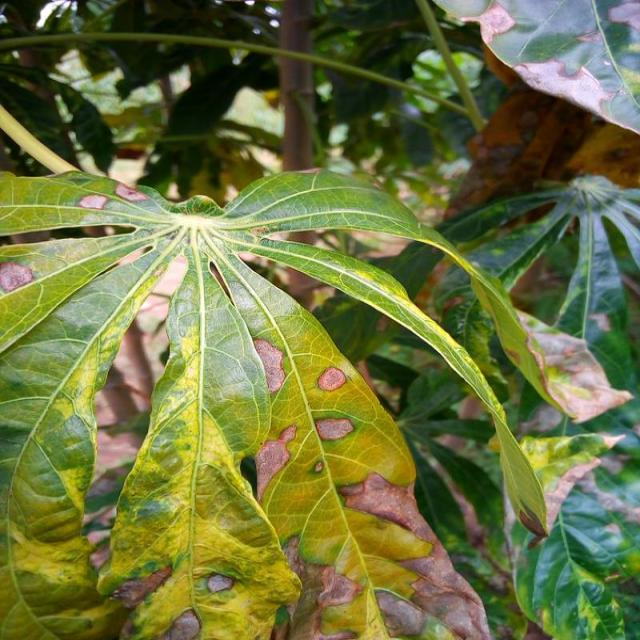cassava leaf: (0, 164, 550, 637)
